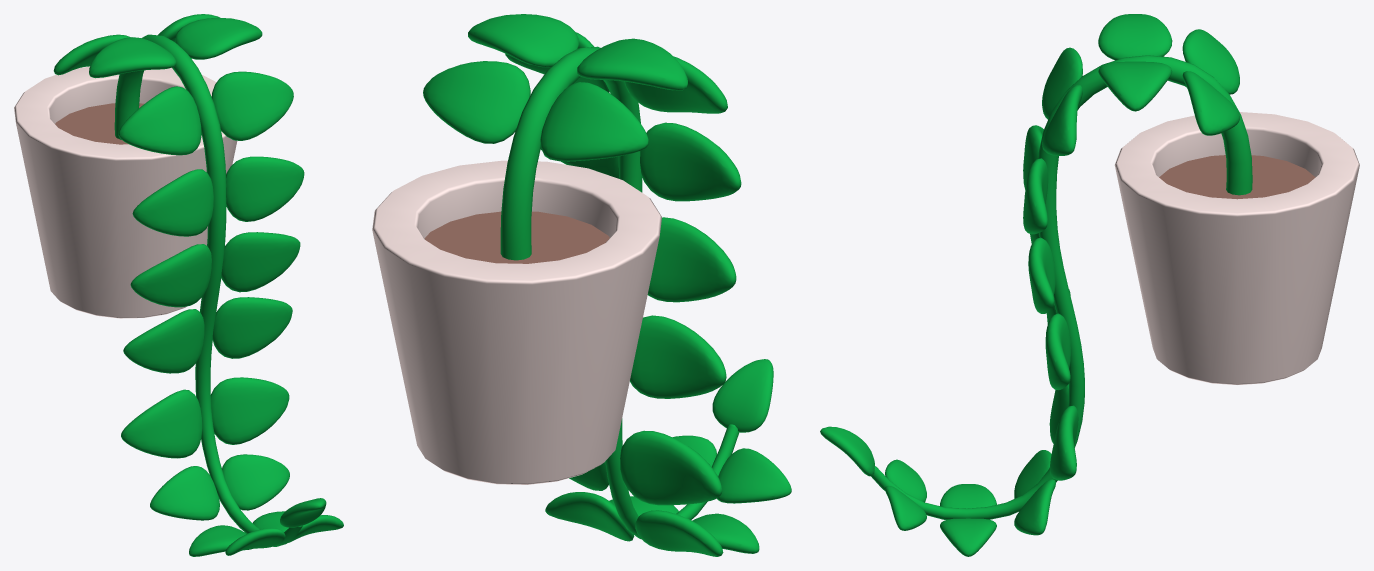
File: City_13_Plant_3.glb
3 views of the same model, side by side, from view 1: azimuth 30°, elevation 25°; view 2: azimuth 150°, elevation 25°; view 3: azimuth 270°, elevation 25° (orthographic). The views are drawn at different scales.
Parts seen in each view (by area): view 1: City_13_Plant_3; view 2: City_13_Plant_3; view 3: City_13_Plant_3.
Part boxes in pixels (left/top/right/bottom): City_13_Plant_3: left=14, top=14, right=343, bottom=556; City_13_Plant_3: left=372, top=14, right=791, bottom=556; City_13_Plant_3: left=820, top=14, right=1359, bottom=556.
Size of the model in its own units: 0.4876 by 1.05 by 1.07.
1 material, 1 textured.
